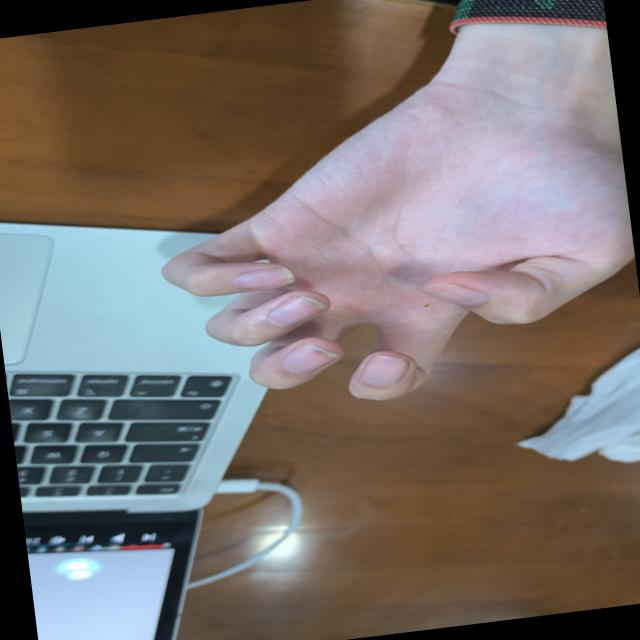Nail: (265, 294, 325, 326), (280, 342, 336, 372), (415, 281, 486, 304), (360, 353, 407, 384), (232, 266, 292, 288)
